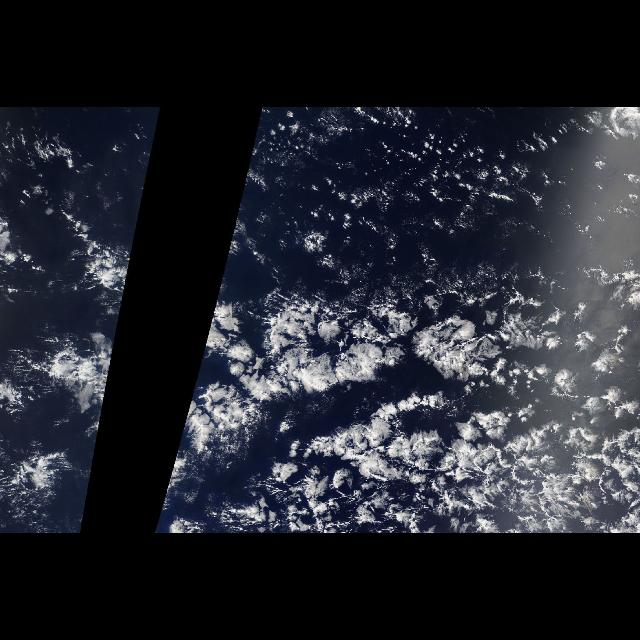Flower: (181, 258, 629, 532)
Gravel: (266, 109, 630, 308)
